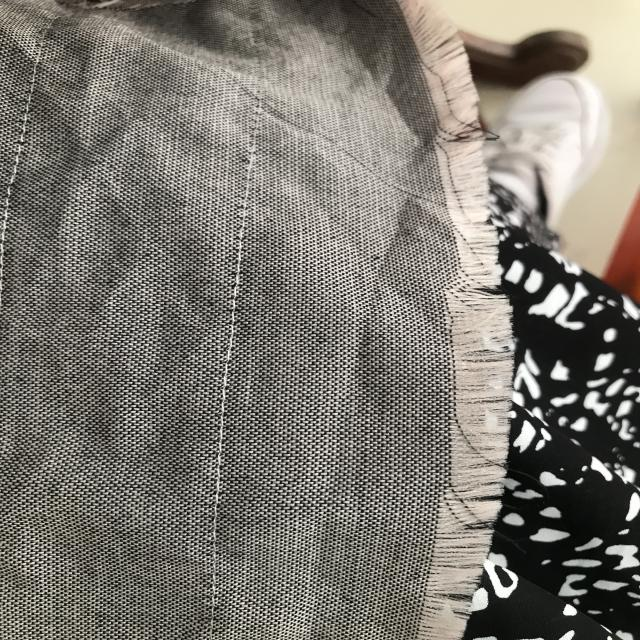good: (205, 312, 241, 494), (194, 509, 238, 622)
